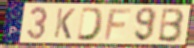3: (25, 6, 48, 42)
9: (133, 6, 158, 43)
B: (156, 7, 186, 44)
D: (76, 6, 106, 42)
F: (103, 8, 133, 41)
K: (52, 7, 76, 41)
